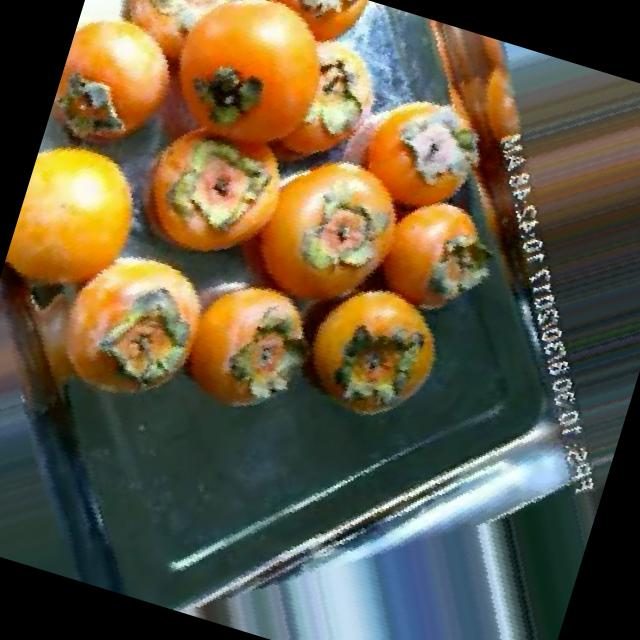Fruit: (249, 246, 476, 462), (0, 117, 175, 334)
